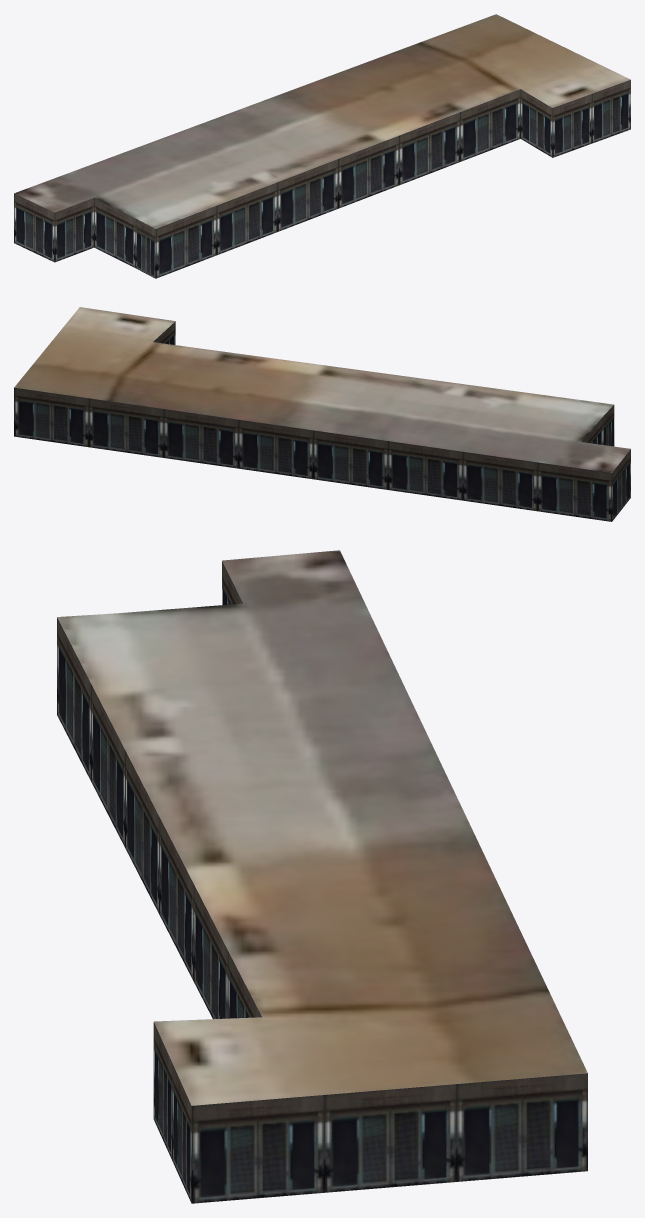
The picture shows the model from 3 angles, top to bottom: view 1: azimuth 30°, elevation 25°; view 2: azimuth 150°, elevation 25°; view 3: azimuth 270°, elevation 25°; orthographic projection. The views are drawn at different scales.
Visible parts, largest first — view 1: SketchUp (×8); view 2: SketchUp (×5); view 3: SketchUp (×4).
Part boxes in pixels (left/top/right/bottom): SketchUp (×8): left=14, top=14, right=630, bottom=278; SketchUp (×5): left=14, top=307, right=630, bottom=521; SketchUp (×4): left=57, top=550, right=587, bottom=1203.
Bounding box in the file's own units: 45.43 × 18.35 × 3.73.
Materials: 2 (2 with a texture image).
